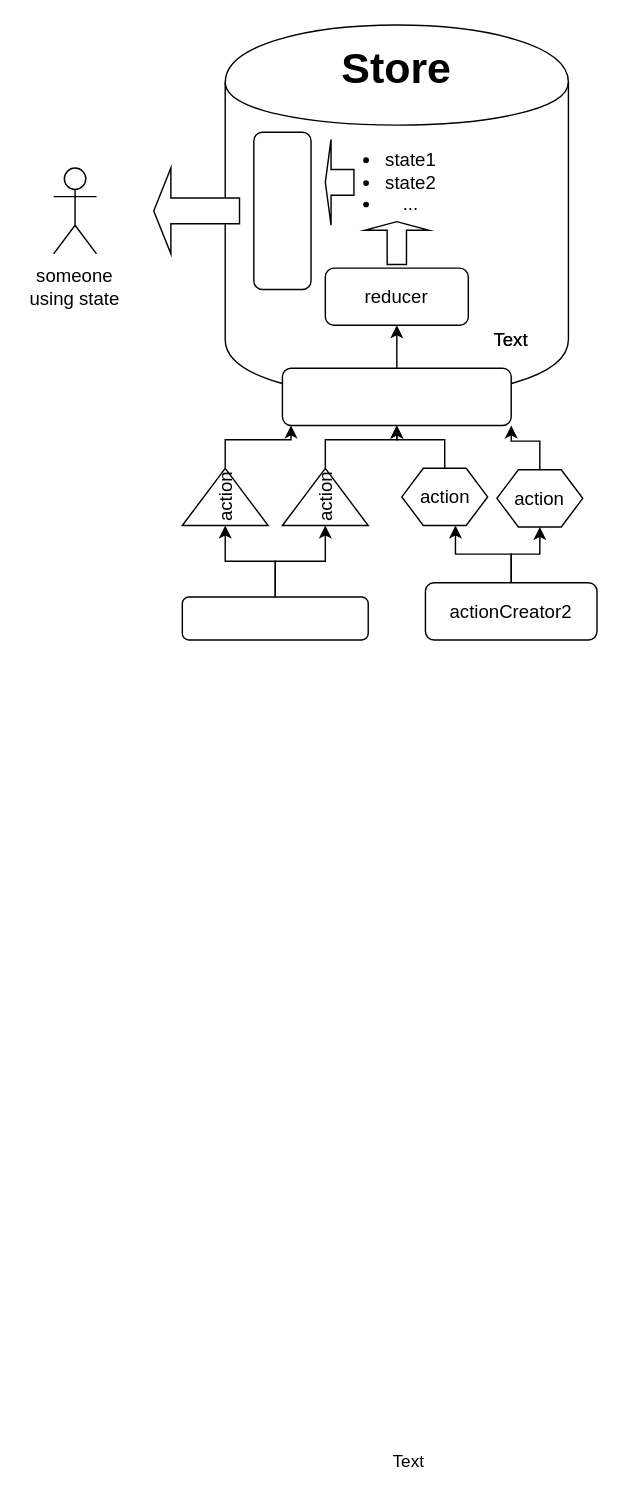
Image size: 622x1502. Some labels were removed from this diagram. The shapes that lost their labels are listed below. From the top down, each one's centre as x and y in pixels, then its label:
At point 281,210: "subscribe".
At point 396,396: "dispatch".
At point 274,618: "actionCreator1".
